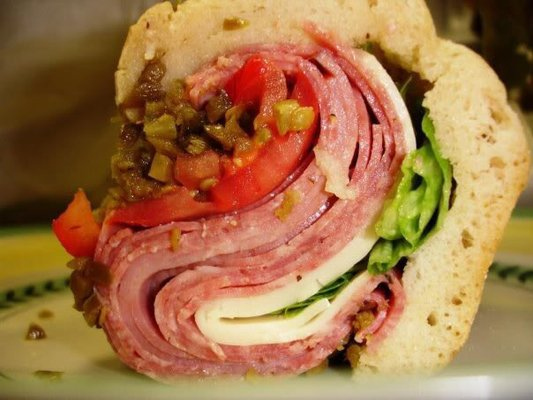soup: (25, 9, 527, 386)
